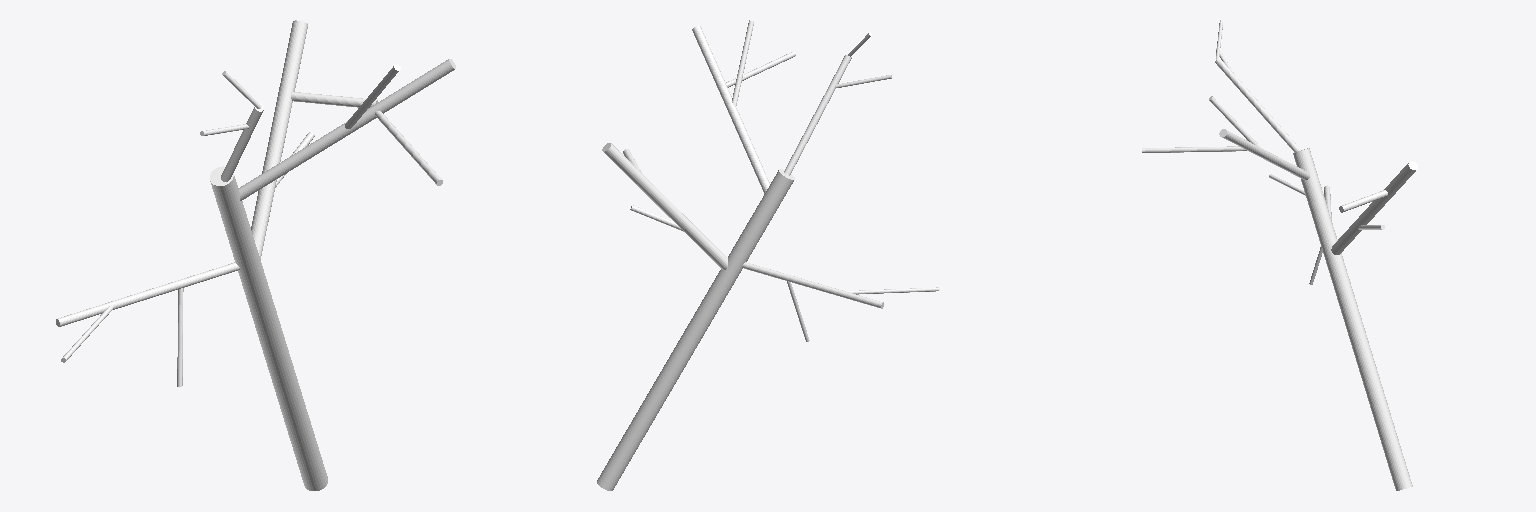
The robot description file, URDF, robot "tree_90.urdf":
<?xml version='1.0' encoding='UTF-8'?>
<robot name="tree_90.urdf">
  <link name="branch_0">
    <inertial>
      <origin xyz="0.0 0.0 0.0" rpy="0.0 -0.0 0.0"/>
      <mass value="1.0"/>
      <inertia ixx="1.0" ixy="0.0" ixz="0.0" iyy="1.0" iyz="0.0" izz="1.0"/>
    </inertial>
    <visual name="branch_0_visual">
      <geometry>
        <cylinder radius="0.18705372472726714" length="7.585495727172827"/>
      </geometry>
      <material name="branch_material"/>
      <origin xyz="-1.4589748633718505 -1.1077108601353916 3.3210398002924473" rpy="0.0 0.5040598434265042 -2.492204653325485"/>
    </visual>
    <collision name="branch_0_collision">
      <geometry>
        <cylinder radius="0.18705372472726714" length="7.585495727172827"/>
      </geometry>
      <origin xyz="-1.4589748633718505 -1.1077108601353916 3.3210398002924473" rpy="0.0 0.5040598434265042 -2.492204653325485"/>
    </collision>
  </link>
  <link name="branch_1">
    <inertial>
      <origin xyz="0.0 0.0 0.0" rpy="0.0 -0.0 0.0"/>
      <mass value="1.0"/>
      <inertia ixx="1.0" ixy="0.0" ixz="0.0" iyy="1.0" iyz="0.0" izz="1.0"/>
    </inertial>
    <visual name="branch_1_visual">
      <geometry>
        <cylinder radius="0.07308717617443963" length="2.8241105458536295"/>
      </geometry>
      <material name="branch_material"/>
      <origin xyz="0.0 0.0 0.0" rpy="0.0 -0.0 0.0"/>
    </visual>
    <collision name="branch_1_collision">
      <geometry>
        <cylinder radius="0.07308717617443963" length="2.8241105458536295"/>
      </geometry>
      <origin xyz="0.0 0.0 0.0" rpy="0.0 -0.0 0.0"/>
    </collision>
  </link>
  <link name="branch_2">
    <inertial>
      <origin xyz="0.0 0.0 0.0" rpy="0.0 -0.0 0.0"/>
      <mass value="1.0"/>
      <inertia ixx="1.0" ixy="0.0" ixz="0.0" iyy="1.0" iyz="0.0" izz="1.0"/>
    </inertial>
    <visual name="branch_2_visual">
      <geometry>
        <cylinder radius="0.04" length="1.2300346142315404"/>
      </geometry>
      <material name="branch_material"/>
      <origin xyz="0.0 0.0 0.0" rpy="0.0 -0.0 0.0"/>
    </visual>
    <collision name="branch_2_collision">
      <geometry>
        <cylinder radius="0.04" length="1.2300346142315404"/>
      </geometry>
      <origin xyz="0.0 0.0 0.0" rpy="0.0 -0.0 0.0"/>
    </collision>
  </link>
  <link name="branch_3">
    <inertial>
      <origin xyz="0.0 0.0 0.0" rpy="0.0 -0.0 0.0"/>
      <mass value="1.0"/>
      <inertia ixx="1.0" ixy="0.0" ixz="0.0" iyy="1.0" iyz="0.0" izz="1.0"/>
    </inertial>
    <visual name="branch_3_visual">
      <geometry>
        <cylinder radius="0.04" length="0.8757555760080166"/>
      </geometry>
      <material name="branch_material"/>
      <origin xyz="0.0 0.0 0.0" rpy="0.0 -0.0 0.0"/>
    </visual>
    <collision name="branch_3_collision">
      <geometry>
        <cylinder radius="0.04" length="0.8757555760080166"/>
      </geometry>
      <origin xyz="0.0 0.0 0.0" rpy="0.0 -0.0 0.0"/>
    </collision>
  </link>
  <link name="branch_4">
    <inertial>
      <origin xyz="0.0 0.0 0.0" rpy="0.0 -0.0 0.0"/>
      <mass value="1.0"/>
      <inertia ixx="1.0" ixy="0.0" ixz="0.0" iyy="1.0" iyz="0.0" izz="1.0"/>
    </inertial>
    <visual name="branch_4_visual">
      <geometry>
        <cylinder radius="0.06603740681144189" length="3.3545843776408595"/>
      </geometry>
      <material name="branch_material"/>
      <origin xyz="0.0 0.0 0.0" rpy="0.0 -0.0 0.0"/>
    </visual>
    <collision name="branch_4_collision">
      <geometry>
        <cylinder radius="0.06603740681144189" length="3.3545843776408595"/>
      </geometry>
      <origin xyz="0.0 0.0 0.0" rpy="0.0 -0.0 0.0"/>
    </collision>
  </link>
  <link name="branch_5">
    <inertial>
      <origin xyz="0.0 0.0 0.0" rpy="0.0 -0.0 0.0"/>
      <mass value="1.0"/>
      <inertia ixx="1.0" ixy="0.0" ixz="0.0" iyy="1.0" iyz="0.0" izz="1.0"/>
    </inertial>
    <visual name="branch_5_visual">
      <geometry>
        <cylinder radius="0.04" length="1.996528185746592"/>
      </geometry>
      <material name="branch_material"/>
      <origin xyz="0.0 0.0 0.0" rpy="0.0 -0.0 0.0"/>
    </visual>
    <collision name="branch_5_collision">
      <geometry>
        <cylinder radius="0.04" length="1.996528185746592"/>
      </geometry>
      <origin xyz="0.0 0.0 0.0" rpy="0.0 -0.0 0.0"/>
    </collision>
  </link>
  <link name="branch_6">
    <inertial>
      <origin xyz="0.0 0.0 0.0" rpy="0.0 -0.0 0.0"/>
      <mass value="1.0"/>
      <inertia ixx="1.0" ixy="0.0" ixz="0.0" iyy="1.0" iyz="0.0" izz="1.0"/>
    </inertial>
    <visual name="branch_6_visual">
      <geometry>
        <cylinder radius="0.04" length="1.5609420102270515"/>
      </geometry>
      <material name="branch_material"/>
      <origin xyz="0.0 0.0 0.0" rpy="0.0 -0.0 0.0"/>
    </visual>
    <collision name="branch_6_collision">
      <geometry>
        <cylinder radius="0.04" length="1.5609420102270515"/>
      </geometry>
      <origin xyz="0.0 0.0 0.0" rpy="0.0 -0.0 0.0"/>
    </collision>
  </link>
  <link name="branch_7">
    <inertial>
      <origin xyz="0.0 0.0 0.0" rpy="0.0 -0.0 0.0"/>
      <mass value="1.0"/>
      <inertia ixx="1.0" ixy="0.0" ixz="0.0" iyy="1.0" iyz="0.0" izz="1.0"/>
    </inertial>
    <visual name="branch_7_visual">
      <geometry>
        <cylinder radius="0.09321171145121283" length="4.11649384498665"/>
      </geometry>
      <material name="branch_material"/>
      <origin xyz="0.0 0.0 0.0" rpy="0.0 -0.0 0.0"/>
    </visual>
    <collision name="branch_7_collision">
      <geometry>
        <cylinder radius="0.09321171145121283" length="4.11649384498665"/>
      </geometry>
      <origin xyz="0.0 0.0 0.0" rpy="0.0 -0.0 0.0"/>
    </collision>
  </link>
  <link name="branch_8">
    <inertial>
      <origin xyz="0.0 0.0 0.0" rpy="0.0 -0.0 0.0"/>
      <mass value="1.0"/>
      <inertia ixx="1.0" ixy="0.0" ixz="0.0" iyy="1.0" iyz="0.0" izz="1.0"/>
    </inertial>
    <visual name="branch_8_visual">
      <geometry>
        <cylinder radius="0.0555220221967115" length="2.3986050113813775"/>
      </geometry>
      <material name="branch_material"/>
      <origin xyz="0.0 0.0 0.0" rpy="0.0 -0.0 0.0"/>
    </visual>
    <collision name="branch_8_collision">
      <geometry>
        <cylinder radius="0.0555220221967115" length="2.3986050113813775"/>
      </geometry>
      <origin xyz="0.0 0.0 0.0" rpy="0.0 -0.0 0.0"/>
    </collision>
  </link>
  <link name="branch_9">
    <inertial>
      <origin xyz="0.0 0.0 0.0" rpy="0.0 -0.0 0.0"/>
      <mass value="1.0"/>
      <inertia ixx="1.0" ixy="0.0" ixz="0.0" iyy="1.0" iyz="0.0" izz="1.0"/>
    </inertial>
    <visual name="branch_9_visual">
      <geometry>
        <cylinder radius="0.05615567606032018" length="1.8631827345536653"/>
      </geometry>
      <material name="branch_material"/>
      <origin xyz="0.0 0.0 0.0" rpy="0.0 -0.0 0.0"/>
    </visual>
    <collision name="branch_9_collision">
      <geometry>
        <cylinder radius="0.05615567606032018" length="1.8631827345536653"/>
      </geometry>
      <origin xyz="0.0 0.0 0.0" rpy="0.0 -0.0 0.0"/>
    </collision>
  </link>
  <link name="branch_10">
    <inertial>
      <origin xyz="0.0 0.0 0.0" rpy="0.0 -0.0 0.0"/>
      <mass value="1.0"/>
      <inertia ixx="1.0" ixy="0.0" ixz="0.0" iyy="1.0" iyz="0.0" izz="1.0"/>
    </inertial>
    <visual name="branch_10_visual">
      <geometry>
        <cylinder radius="0.11956456772469673" length="3.9065981198019375"/>
      </geometry>
      <material name="branch_material"/>
      <origin xyz="0.0 0.0 0.0" rpy="0.0 -0.0 0.0"/>
    </visual>
    <collision name="branch_10_collision">
      <geometry>
        <cylinder radius="0.11956456772469673" length="3.9065981198019375"/>
      </geometry>
      <origin xyz="0.0 0.0 0.0" rpy="0.0 -0.0 0.0"/>
    </collision>
  </link>
  <link name="branch_11">
    <inertial>
      <origin xyz="0.0 0.0 0.0" rpy="0.0 -0.0 0.0"/>
      <mass value="1.0"/>
      <inertia ixx="1.0" ixy="0.0" ixz="0.0" iyy="1.0" iyz="0.0" izz="1.0"/>
    </inertial>
    <visual name="branch_11_visual">
      <geometry>
        <cylinder radius="0.055116463673558595" length="1.340613343311159"/>
      </geometry>
      <material name="branch_material"/>
      <origin xyz="0.0 0.0 0.0" rpy="0.0 -0.0 0.0"/>
    </visual>
    <collision name="branch_11_collision">
      <geometry>
        <cylinder radius="0.055116463673558595" length="1.340613343311159"/>
      </geometry>
      <origin xyz="0.0 0.0 0.0" rpy="0.0 -0.0 0.0"/>
    </collision>
  </link>
  <link name="branch_12">
    <inertial>
      <origin xyz="0.0 0.0 0.0" rpy="0.0 -0.0 0.0"/>
      <mass value="1.0"/>
      <inertia ixx="1.0" ixy="0.0" ixz="0.0" iyy="1.0" iyz="0.0" izz="1.0"/>
    </inertial>
    <visual name="branch_12_visual">
      <geometry>
        <cylinder radius="0.07237288006371256" length="1.4292361340749469"/>
      </geometry>
      <material name="branch_material"/>
      <origin xyz="0.0 0.0 0.0" rpy="0.0 -0.0 0.0"/>
    </visual>
    <collision name="branch_12_collision">
      <geometry>
        <cylinder radius="0.07237288006371256" length="1.4292361340749469"/>
      </geometry>
      <origin xyz="0.0 0.0 0.0" rpy="0.0 -0.0 0.0"/>
    </collision>
  </link>
  <joint name="joint_0_1" type="fixed">
    <parent link="branch_0"/>
    <child link="branch_1"/>
    <axis xyz="1. 0. 0."/>
    <origin xyz="-3.0794604384411177 -3.094040118753647 7.557952766116237" rpy="0.5662659215931959 0.4984828359288843 -0.8779209454684485"/>
  </joint>
  <joint name="joint_0_4" type="fixed">
    <parent link="branch_0"/>
    <child link="branch_4"/>
    <axis xyz="1. 0. 0."/>
    <origin xyz="-3.7668255450317574 -1.6237425477382337 4.666898477748924" rpy="-1.7596716416266538 1.2588862338652764 1.4116748231398402"/>
  </joint>
  <joint name="joint_0_7" type="fixed">
    <parent link="branch_0"/>
    <child link="branch_7"/>
    <axis xyz="1. 0. 0."/>
    <origin xyz="-1.2744067027152306 -2.959284236916304 7.286851201468296" rpy="0.6083488838595935 0.7927464676054973 0.1926551693437344"/>
  </joint>
  <joint name="joint_0_10" type="fixed">
    <parent link="branch_0"/>
    <child link="branch_10"/>
    <axis xyz="1. 0. 0."/>
    <origin xyz="-1.0906384362843824 -0.6727530511697731 6.090338723473423" rpy="-0.04302837869258409 0.7084314553077316 0.680668330595831"/>
  </joint>
  <joint name="joint_1_2" type="fixed">
    <parent link="branch_0"/>
    <child link="branch_2"/>
    <axis xyz="1. 0. 0."/>
    <origin xyz="-3.7404920492852476 -3.7839435801403924 8.238719817755351" rpy="-1.1973613376082062 0.8133084664349077 2.237294743102157"/>
  </joint>
  <joint name="joint_1_3" type="fixed">
    <parent link="branch_0"/>
    <child link="branch_3"/>
    <axis xyz="1. 0. 0."/>
    <origin xyz="-3.578586182955915 -3.9650099103434413 8.930419617458108" rpy="-0.6203176304482519 0.36931483598349113 1.8781340867491934"/>
  </joint>
  <joint name="joint_4_5" type="fixed">
    <parent link="branch_0"/>
    <child link="branch_5"/>
    <axis xyz="1. 0. 0."/>
    <origin xyz="-5.259717003472948 -2.2545218318602203 4.602908716822052" rpy="1.5940242211815907 -0.06509269798221383 -0.9070459100531346"/>
  </joint>
  <joint name="joint_4_6" type="fixed">
    <parent link="branch_0"/>
    <child link="branch_6"/>
    <axis xyz="1. 0. 0."/>
    <origin xyz="-3.4005766713312795 -1.8074896814483423 3.948869111780884" rpy="2.8852005869678483 0.15263293239367892 -0.033940628848240735"/>
  </joint>
  <joint name="joint_7_8" type="fixed">
    <parent link="branch_0"/>
    <child link="branch_8"/>
    <axis xyz="1. 0. 0."/>
    <origin xyz="-0.9661732470911172 -4.436931294283095 7.570800408440933" rpy="-1.6640596238362955 0.68807215916978 2.9726468891480122"/>
  </joint>
  <joint name="joint_7_9" type="fixed">
    <parent link="branch_0"/>
    <child link="branch_9"/>
    <axis xyz="1. 0. 0."/>
    <origin xyz="-1.100690804330813 -3.575947502032057 8.058038939843579" rpy="-0.6802566556372047 -0.08608106501009048 -3.0513100133268765"/>
  </joint>
  <joint name="joint_10_11" type="fixed">
    <parent link="branch_0"/>
    <child link="branch_11"/>
    <axis xyz="1. 0. 0."/>
    <origin xyz="-0.8996296690450896 -0.7358634825828028 5.767636533300115" rpy="-0.7324869340836212 1.0318608873609603 -0.3501892087387687"/>
  </joint>
  <joint name="joint_10_12" type="fixed">
    <parent link="branch_0"/>
    <child link="branch_12"/>
    <axis xyz="1. 0. 0."/>
    <origin xyz="-0.21459935487455303 -0.8351292957648885 6.717173211275906" rpy="-1.5266757051454136 0.8604638441745107 -2.3445427297976322"/>
  </joint>
  <material name="branch_material">
    <color rgba="1. 1. 1. 1."/>
  </material>
</robot>

--- What the picture shows (computed from the rendered views, not written in the file) ---
The picture shows the robot from 3 angles, left to right: view 1: azimuth 30°, elevation 25°; view 2: azimuth 150°, elevation 25°; view 3: azimuth 270°, elevation 25°; orthographic projection.
Robot: tree_90.urdf — 13 links, 12 joints (12 fixed); root link branch_0; default pose: all joints at 0.
Visible links, largest first — view 1: branch_0, branch_10, branch_7, branch_4, branch_1, branch_8, branch_12, branch_9, branch_6; view 2: branch_0, branch_10, branch_7, branch_4, branch_1; view 3: branch_0, branch_10, branch_7, branch_1.
Link boxes in pixels (left/top/right/bottom): branch_0: left=210, top=166, right=327, bottom=490; branch_10: left=251, top=20, right=307, bottom=259; branch_7: left=238, top=59, right=455, bottom=200; branch_4: left=56, top=262, right=239, bottom=326; branch_1: left=221, top=103, right=263, bottom=181; branch_8: left=375, top=111, right=442, bottom=185; branch_12: left=291, top=92, right=377, bottom=107; branch_9: left=345, top=64, right=400, bottom=128; branch_6: left=177, top=288, right=183, bottom=386; branch_0: left=597, top=169, right=794, bottom=490; branch_10: left=602, top=143, right=727, bottom=269; branch_7: left=692, top=26, right=769, bottom=193; branch_4: left=742, top=262, right=883, bottom=308; branch_1: left=784, top=55, right=851, bottom=175; branch_0: left=1293, top=148, right=1412, bottom=490; branch_10: left=1331, top=161, right=1417, bottom=254; branch_7: left=1219, top=129, right=1309, bottom=179; branch_1: left=1215, top=58, right=1300, bottom=151.
Bounding box of the posed robot: 6.4 × 5.93 × 9.38 m (x, y, z).
Geometry: primitives only (box / cylinder / sphere), no mesh files.